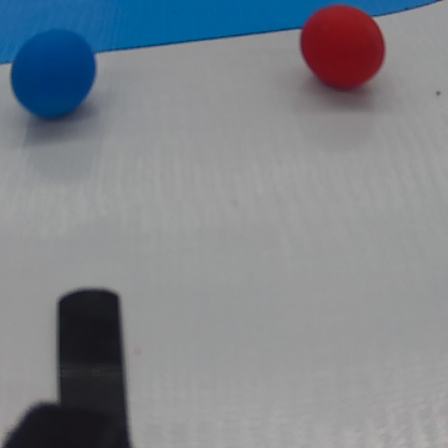blue: (10, 28, 102, 125)
blue_base: (0, 0, 440, 77)
red: (298, 5, 394, 96)
